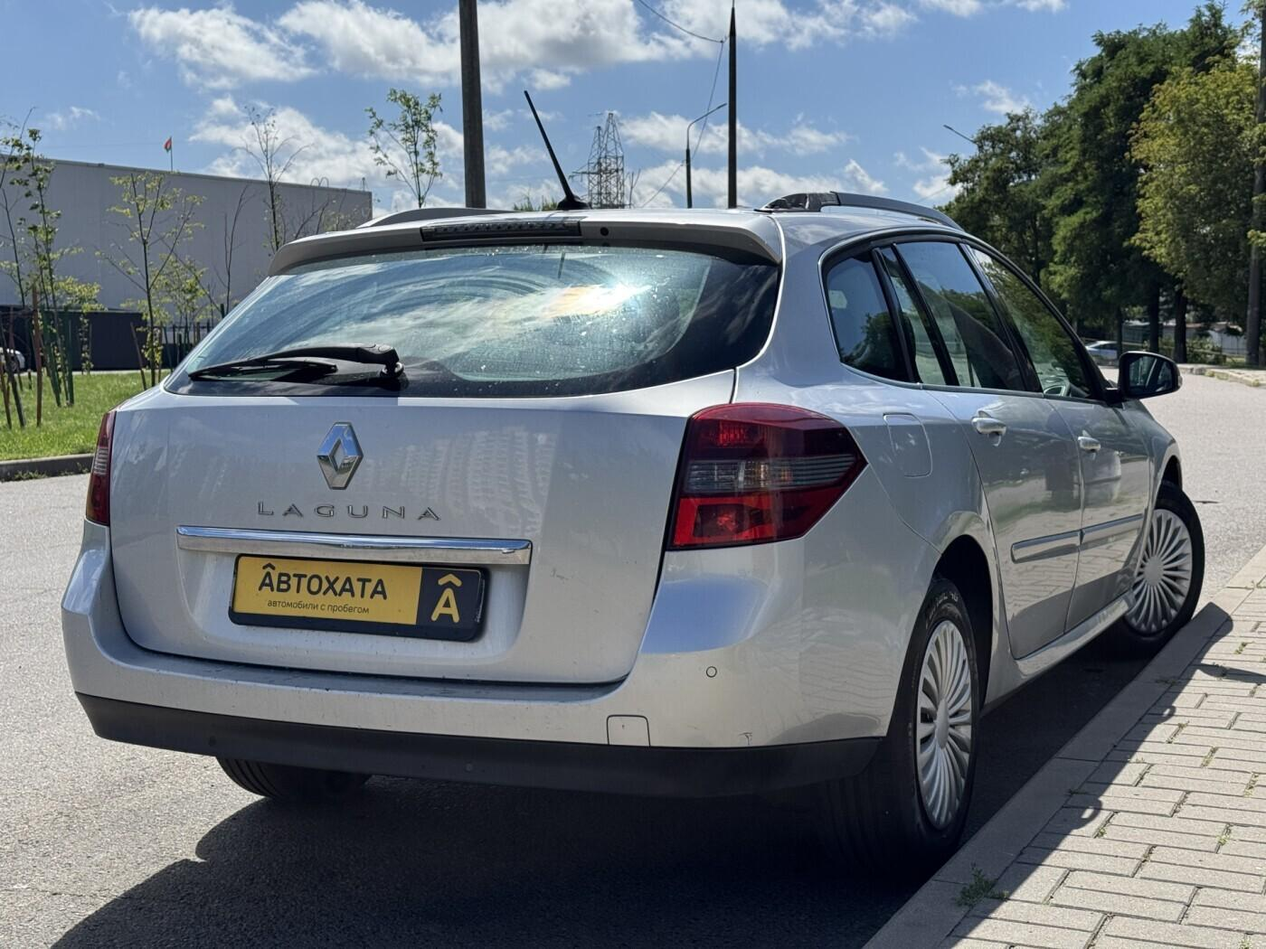Laguna_2010-2015: (59, 191, 1212, 869)
